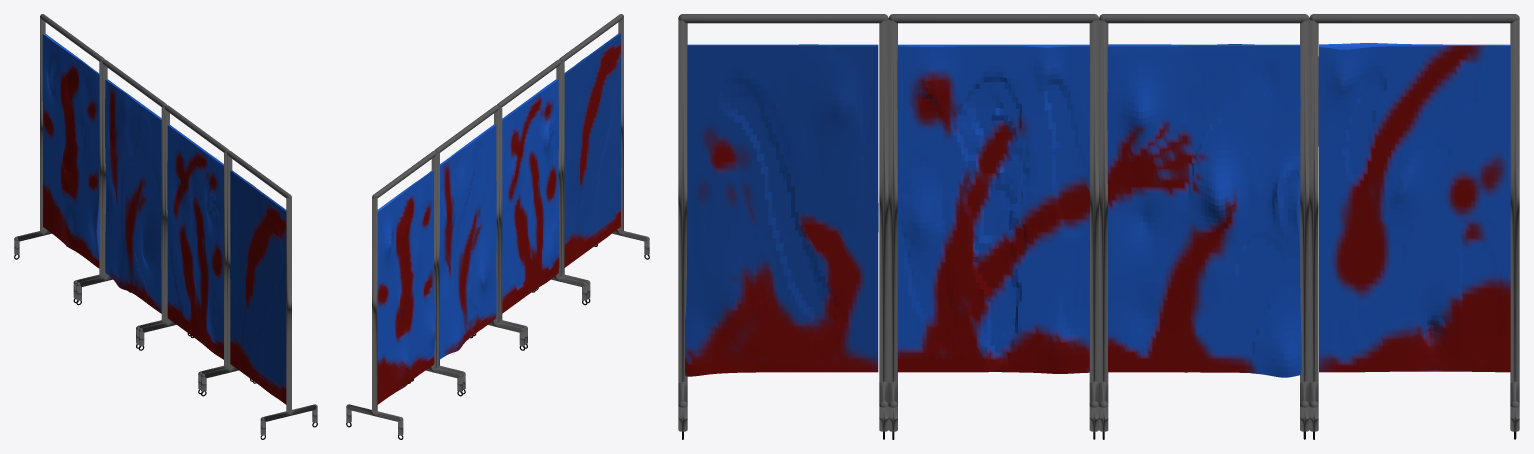
The model's file is Cortinas del juego uwu.blend1.fbx.
3 views of the same model, side by side, from view 1: azimuth 30°, elevation 25°; view 2: azimuth 150°, elevation 25°; view 3: azimuth 270°, elevation 25° (orthographic). The views are drawn at different scales.
Parts seen in each view (by area): view 1: Cube.003, Cube.002, Cube.001, Cube, Cilindro.001, Cilindro.019, Cilindro.028, Cilindro.010; view 2: Cube.003, Cube.002, Cube.001, Cube, Cilindro.028, Cilindro.010, Cilindro.001, Cilindro.019; view 3: Cube.002, Cube.001, Cube, Cube.003, Cilindro.028, Cilindro.001, Cilindro.010, Cilindro.019.
Boxes of the visible parts, box(x1,y1,x2,y2) form: Cube.003: box(42, 33, 99, 268); Cube.002: box(105, 79, 161, 313); Cube.001: box(167, 124, 223, 359); Cube: box(230, 170, 286, 404); Cilindro.001: box(201, 150, 317, 435); Cilindro.019: box(76, 59, 170, 343); Cilindro.028: box(14, 14, 104, 298); Cilindro.010: box(138, 105, 232, 389); Cube.003: box(377, 170, 435, 404); Cube.002: box(440, 124, 496, 359); Cube.001: box(502, 79, 559, 313); Cube: box(564, 33, 621, 267); Cilindro.028: box(346, 150, 462, 435); Cilindro.010: box(497, 59, 587, 343); Cilindro.001: box(559, 14, 649, 298); Cilindro.019: box(434, 105, 525, 389); Cube.002: box(1107, 44, 1301, 377); Cube.001: box(897, 44, 1089, 373); Cube: box(685, 44, 878, 376); Cube.003: box(1318, 43, 1510, 372); Cilindro.028: box(1309, 14, 1519, 431); Cilindro.001: box(678, 14, 888, 431); Cilindro.010: box(888, 14, 1098, 431); Cilindro.019: box(1099, 14, 1309, 431).
Bounding box in the file's own units: 8.32 × 33.23 × 62.78.
